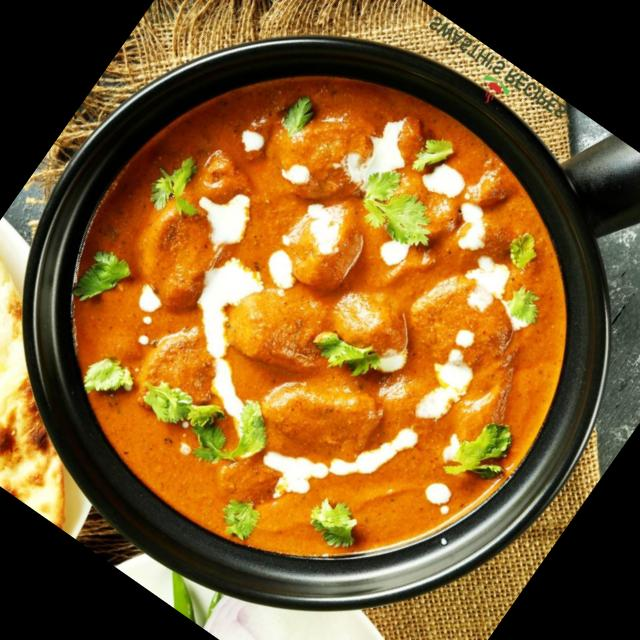chicken: (3, 0, 640, 629)
